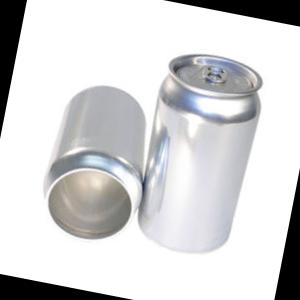metal: (121, 36, 280, 266), (32, 66, 166, 248)
